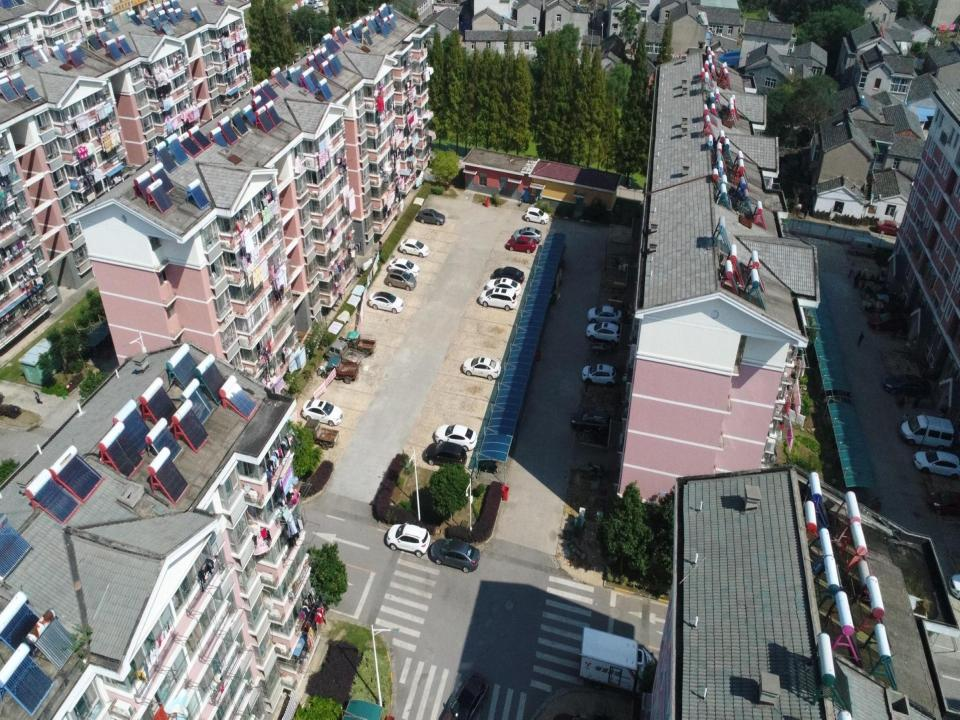car: (441, 673, 488, 718), (430, 539, 480, 572), (385, 523, 431, 558), (912, 449, 960, 480), (571, 405, 609, 437), (434, 424, 478, 451), (302, 399, 343, 426), (425, 443, 467, 467), (881, 374, 927, 395), (480, 286, 518, 311), (582, 362, 616, 389), (368, 290, 405, 314), (463, 356, 501, 379), (928, 489, 959, 516), (586, 322, 621, 344), (388, 256, 420, 278), (587, 305, 623, 324), (386, 268, 417, 290), (400, 236, 430, 258), (486, 277, 522, 295), (868, 312, 900, 331), (492, 266, 525, 284), (506, 235, 536, 253), (524, 206, 550, 225), (417, 208, 446, 225), (512, 227, 543, 242), (875, 219, 900, 234), (312, 0, 324, 7), (307, 0, 317, 8)
truck: (580, 627, 658, 696), (325, 339, 364, 369), (303, 418, 339, 450), (326, 357, 359, 384), (347, 331, 377, 356)
van: (899, 414, 955, 449), (849, 235, 877, 257)
